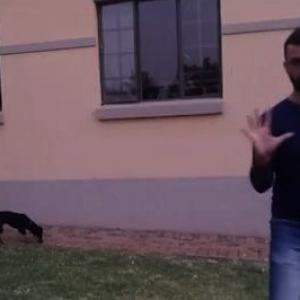follow_hand: (237, 102, 295, 156)
